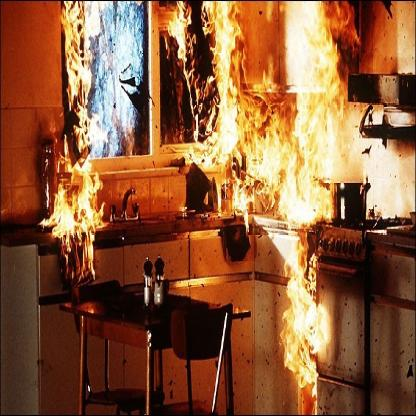fire: (166, 0, 402, 416), (41, 0, 158, 292)
